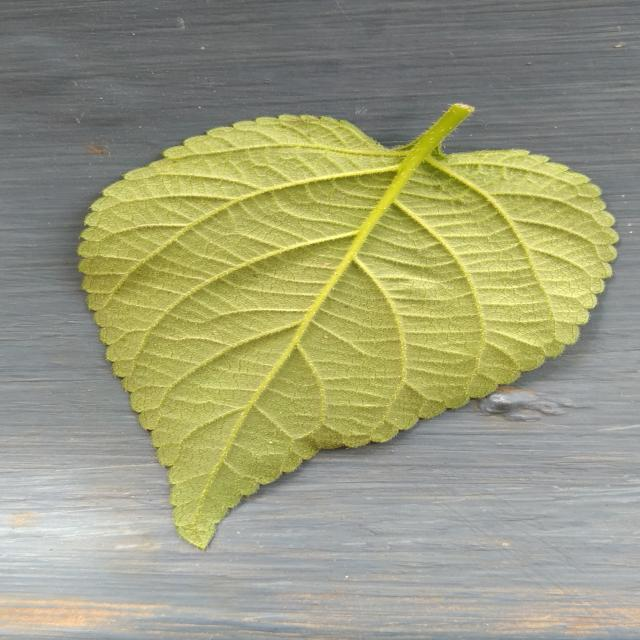Lantana: (80, 105, 618, 548)
